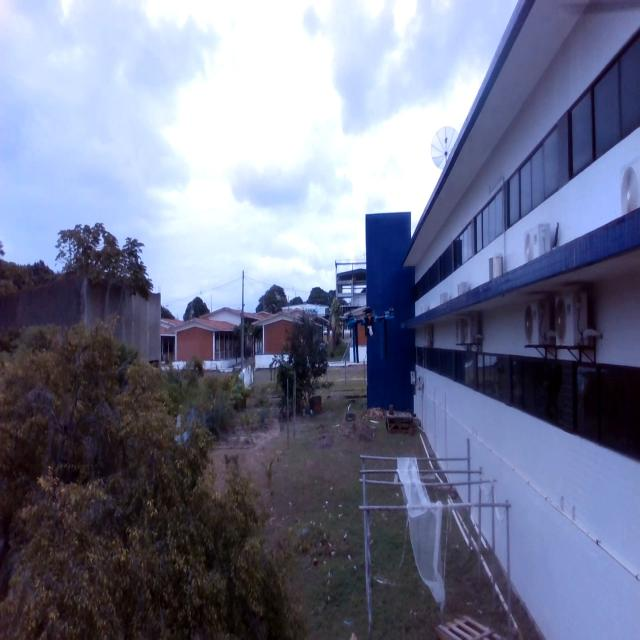-uav-: (333, 294, 409, 371)
